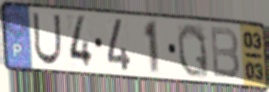1: (143, 18, 163, 78)
4: (67, 13, 95, 71), (105, 17, 133, 74)
B: (209, 25, 242, 81)
Q: (176, 22, 211, 80)
U: (31, 11, 63, 67)
